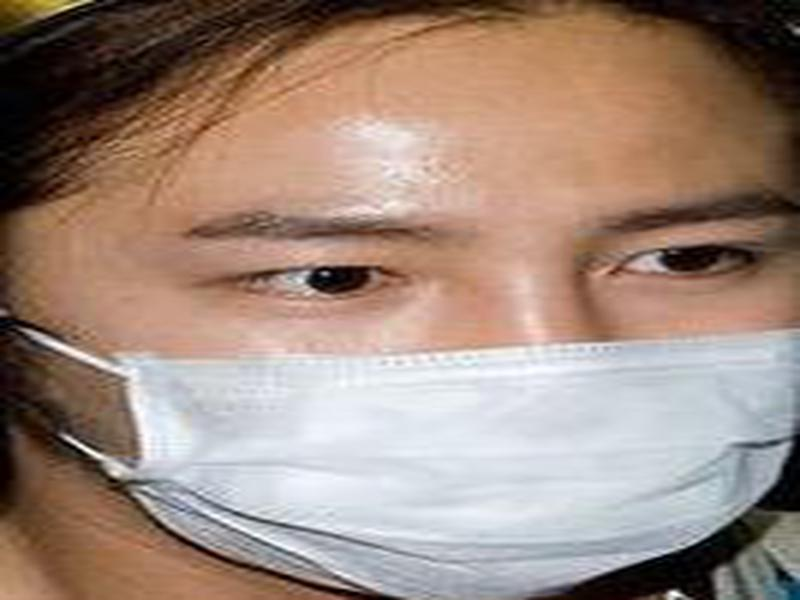with_mask: (1, 5, 794, 600)
